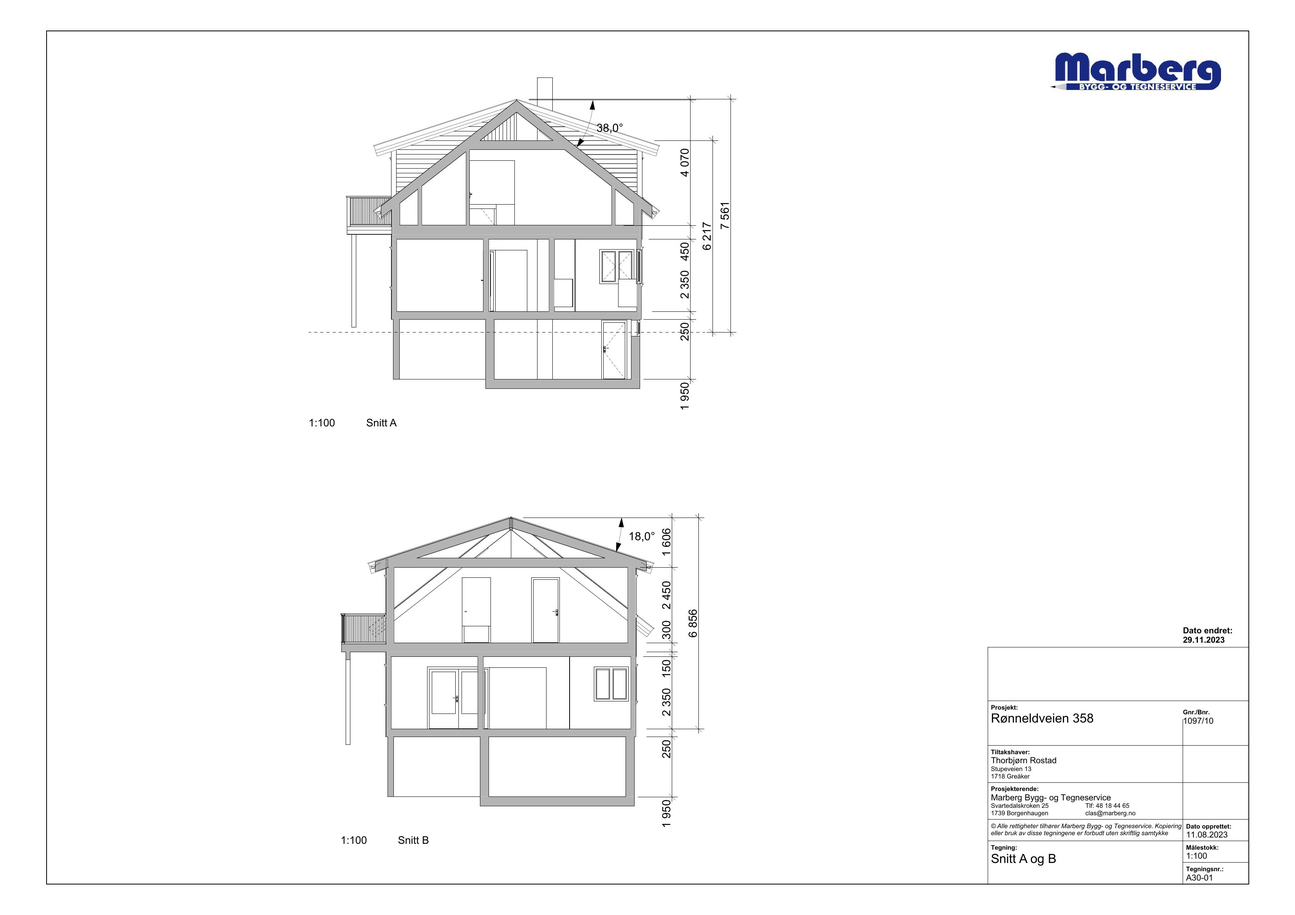snitt: (346, 77, 661, 390), (340, 515, 656, 807)
